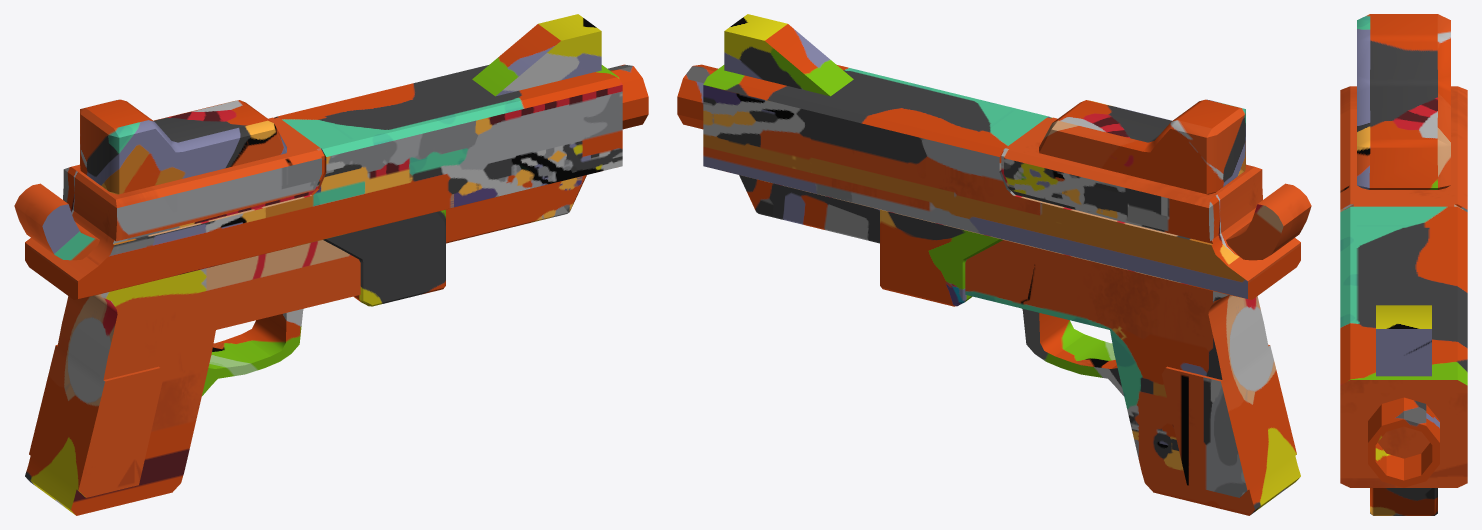
Rendered from DEPistol.fbx.
3 views of the same model, side by side, from view 1: azimuth 30°, elevation 25°; view 2: azimuth 150°, elevation 25°; view 3: azimuth 270°, elevation 25° (orthographic). The views are drawn at different scales.
Visible parts, largest first — view 1: pCube41; view 2: pCube41; view 3: pCube41.
Part boxes in pixels (left/top/right/bottom): pCube41: left=14, top=14, right=648, bottom=515; pCube41: left=677, top=14, right=1311, bottom=515; pCube41: left=1340, top=14, right=1467, bottom=515.
Size of the model in its own units: 20.62 by 12.03 by 3.14.
